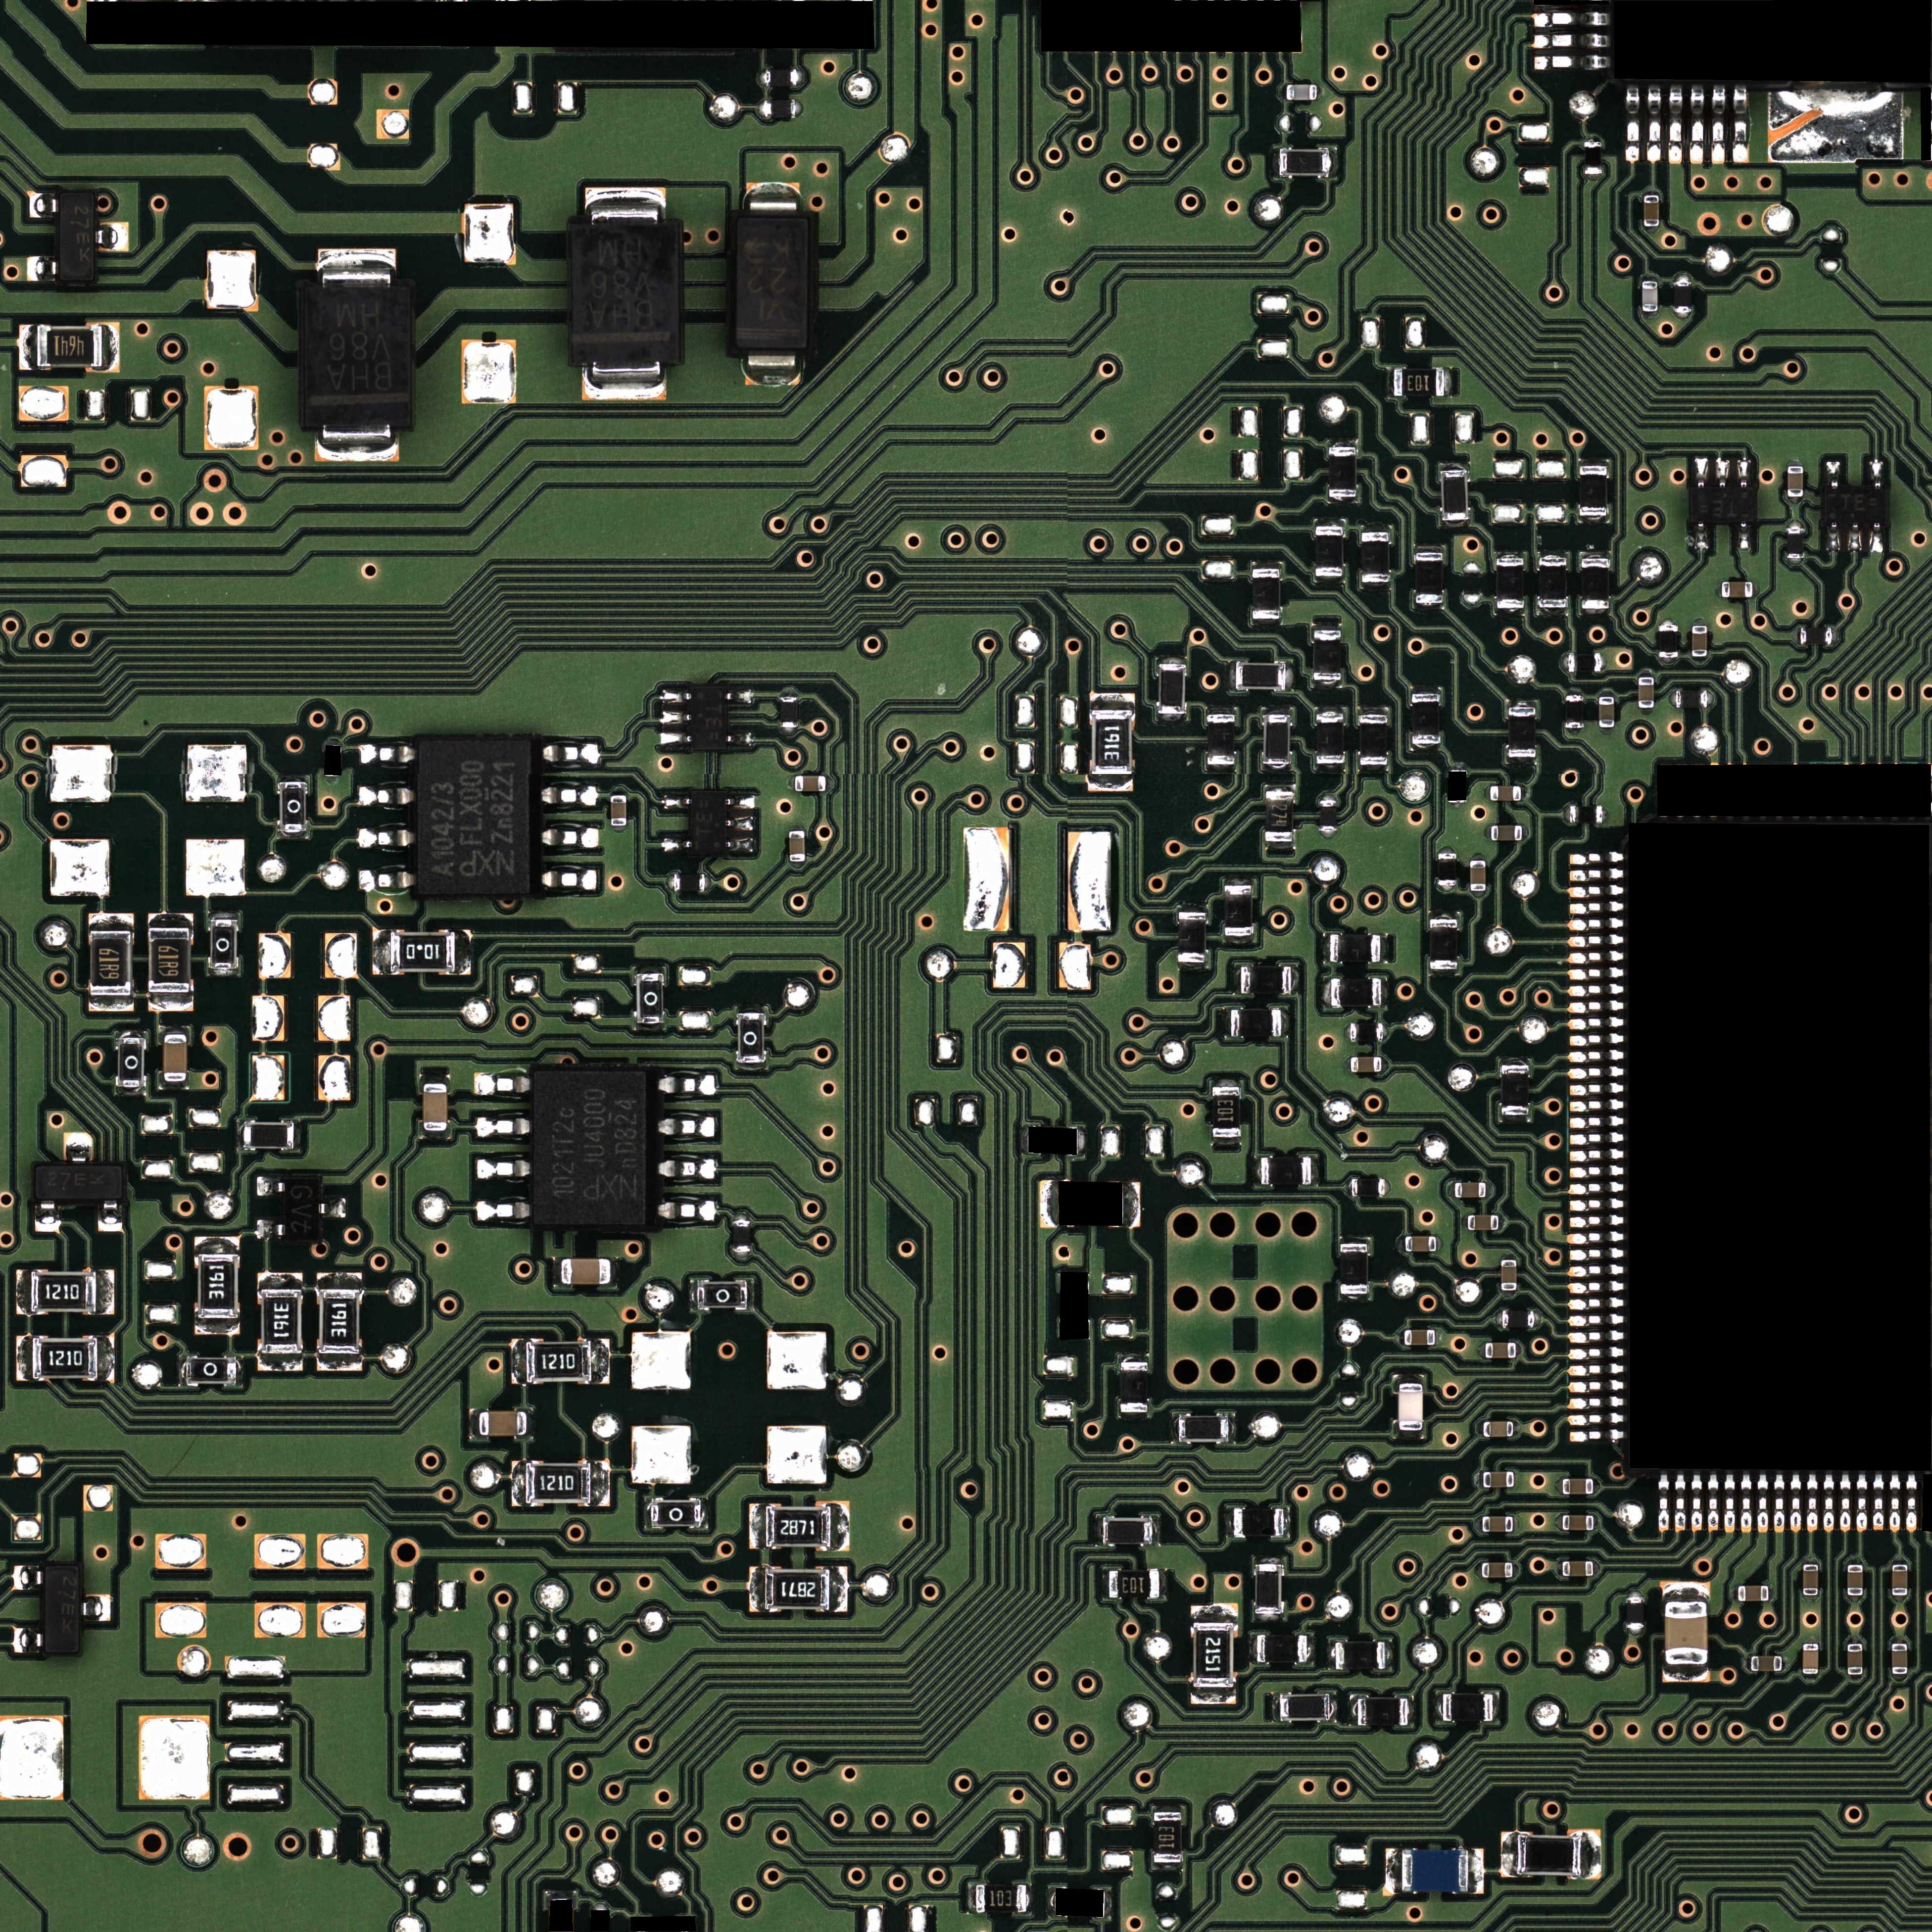Package: (418, 740, 531, 895), (533, 1071, 647, 1225), (570, 224, 680, 361), (303, 288, 412, 425), (735, 218, 808, 349), (59, 192, 95, 281), (45, 1566, 79, 1653), (36, 1166, 123, 1199), (765, 1506, 831, 1548), (1402, 1850, 1468, 1891), (31, 1271, 97, 1313), (148, 928, 191, 993), (37, 326, 102, 367), (526, 1341, 591, 1382), (1665, 1601, 1707, 1665), (764, 1569, 830, 1610), (90, 931, 131, 996), (526, 1463, 590, 1504), (32, 1338, 97, 1379), (1193, 1623, 1234, 1688), (1091, 711, 1132, 774), (390, 932, 455, 972), (261, 1290, 301, 1354), (1517, 1835, 1581, 1876), (197, 1255, 238, 1318), (320, 1290, 359, 1353), (285, 1177, 319, 1243), (1689, 488, 1755, 522), (1824, 489, 1887, 523), (691, 686, 725, 748), (692, 791, 725, 853), (1231, 1008, 1281, 1037), (1234, 1508, 1284, 1537), (1330, 934, 1380, 963), (975, 1885, 1026, 1913), (1241, 966, 1291, 994), (1225, 885, 1253, 936), (1331, 978, 1381, 1007), (1336, 1642, 1385, 1670), (1412, 694, 1440, 744), (1261, 1157, 1311, 1184), (1358, 1698, 1408, 1726), (1340, 1244, 1368, 1294), (1109, 1570, 1159, 1598), (1257, 1635, 1307, 1663), (1253, 569, 1280, 619), (1329, 447, 1356, 497), (1430, 919, 1457, 969), (1265, 792, 1293, 841), (1394, 369, 1444, 396), (1207, 715, 1235, 765), (1508, 707, 1536, 757), (1316, 714, 1344, 764), (1415, 553, 1443, 603), (1443, 1694, 1493, 1721), (1212, 1087, 1240, 1137), (1154, 1812, 1181, 1862), (1501, 1065, 1529, 1114), (1178, 913, 1206, 962), (1361, 532, 1389, 582), (1313, 630, 1341, 680), (1580, 466, 1607, 516), (1120, 1362, 1148, 1412), (1582, 559, 1608, 609), (698, 1281, 747, 1308), (636, 974, 663, 1023), (1360, 715, 1387, 765), (1497, 558, 1523, 608), (1315, 527, 1342, 576), (652, 1500, 701, 1527), (1540, 558, 1566, 607), (187, 1358, 236, 1384), (738, 1014, 764, 1063), (1280, 149, 1329, 176), (280, 782, 306, 832), (1159, 664, 1185, 714), (1442, 471, 1468, 520), (1103, 1518, 1152, 1544), (211, 919, 237, 969), (561, 1258, 610, 1284), (1236, 663, 1285, 689), (1280, 1694, 1329, 1720), (1256, 1564, 1281, 1613), (244, 1123, 293, 1148), (1264, 715, 1289, 765), (118, 1038, 144, 1087), (1179, 1416, 1228, 1441), (423, 1083, 447, 1131), (479, 1411, 526, 1436), (1399, 1383, 1423, 1430), (163, 1034, 187, 1081), (1659, 625, 1678, 658), (1350, 1023, 1383, 1042), (732, 1220, 751, 1253), (1438, 853, 1456, 885), (1584, 142, 1602, 174), (1568, 654, 1601, 672), (1319, 800, 1338, 831), (1352, 1179, 1385, 1196), (1570, 806, 1602, 823), (765, 100, 796, 118), (1502, 1310, 1534, 1328), (1566, 695, 1583, 728), (765, 69, 797, 87), (1676, 690, 1707, 708), (780, 697, 797, 728), (1674, 282, 1691, 312), (1800, 628, 1832, 645), (1627, 1597, 1643, 1629), (674, 874, 705, 891), (1787, 528, 1804, 558), (1501, 1260, 1517, 1291), (789, 831, 805, 861), (1470, 861, 1486, 891), (1787, 466, 1803, 496), (1483, 1516, 1513, 1532), (1404, 1329, 1435, 1345), (1722, 582, 1752, 597), (1644, 195, 1659, 226), (1492, 825, 1522, 841), (1491, 786, 1521, 801), (1692, 626, 1707, 657), (1599, 697, 1614, 727), (1468, 1215, 1498, 1230), (1455, 1182, 1486, 1198), (1483, 1472, 1514, 1487), (1405, 1236, 1436, 1252), (1892, 1565, 1907, 1595), (1642, 282, 1658, 311), (611, 795, 627, 825), (795, 775, 825, 791), (1639, 677, 1654, 708), (1486, 1343, 1516, 1358), (1847, 1644, 1863, 1674), (1563, 1479, 1593, 1494), (1482, 1562, 1512, 1578), (1892, 1644, 1907, 1674), (1751, 1656, 1782, 1671), (1287, 85, 1316, 100), (1803, 1644, 1818, 1674), (1563, 1515, 1594, 1530), (1847, 1565, 1863, 1595), (1351, 1057, 1381, 1072), (1803, 1565, 1818, 1595), (1563, 1561, 1593, 1576), (1484, 1421, 1513, 1437), (1739, 1586, 1768, 1601)
Solder: (1768, 91, 1904, 162), (582, 362, 666, 400), (585, 187, 666, 225), (315, 425, 398, 462), (318, 248, 397, 287), (744, 349, 801, 386), (745, 182, 800, 218), (357, 826, 417, 850), (659, 1199, 716, 1222), (542, 825, 599, 848), (359, 868, 416, 891), (659, 1073, 716, 1096), (358, 784, 416, 807), (541, 784, 598, 806), (476, 1072, 530, 1096), (543, 742, 599, 765), (542, 868, 597, 890), (359, 743, 417, 765), (476, 1115, 530, 1138), (659, 1159, 716, 1180), (1646, 87, 1662, 164), (1624, 87, 1640, 164), (476, 1199, 530, 1221), (659, 1116, 715, 1138), (477, 1158, 530, 1180), (1734, 87, 1749, 163), (1711, 87, 1727, 163), (1667, 87, 1682, 163), (1689, 87, 1704, 163), (1535, 12, 1609, 26), (1535, 56, 1610, 70), (95, 222, 129, 251), (1535, 35, 1609, 48), (63, 1132, 93, 1165), (831, 1501, 850, 1552), (1582, 1829, 1601, 1879), (1662, 1582, 1710, 1601), (1191, 1604, 1238, 1623), (1040, 1180, 1058, 1228), (591, 1460, 610, 1507), (1662, 1664, 1710, 1683), (591, 1338, 610, 1385), (372, 929, 390, 975), (148, 993, 194, 1012), (80, 1594, 111, 1621), (19, 324, 37, 371), (102, 323, 119, 372), (27, 256, 59, 282), (316, 1272, 363, 1289), (316, 1354, 363, 1372), (88, 913, 134, 930), (194, 1236, 240, 1254), (830, 1566, 848, 1612), (98, 1199, 123, 1231), (35, 1200, 59, 1232), (13, 1628, 45, 1653), (749, 1503, 766, 1549), (1089, 693, 1135, 710), (1087, 775, 1133, 792), (1190, 1688, 1236, 1705), (97, 1270, 114, 1314), (13, 1565, 45, 1590), (257, 1272, 303, 1289), (1123, 1182, 1140, 1227), (98, 1336, 114, 1382), (194, 1319, 240, 1335), (258, 1355, 303, 1371), (1385, 1848, 1401, 1895), (29, 193, 59, 218), (455, 929, 471, 975), (1501, 1832, 1517, 1878), (1568, 1314, 1623, 1327), (749, 1566, 765, 1612), (1569, 852, 1624, 865), (1569, 967, 1624, 980), (16, 1336, 32, 1381), (89, 996, 134, 1012), (1569, 951, 1624, 964), (1569, 1066, 1624, 1079), (1569, 1297, 1624, 1309), (1469, 1848, 1484, 1894), (1568, 1412, 1623, 1425), (1570, 1182, 1625, 1195), (1569, 1282, 1624, 1294), (16, 1269, 31, 1315), (1569, 1330, 1623, 1343), (1570, 1083, 1624, 1095), (1569, 1050, 1624, 1062), (512, 1339, 526, 1384), (1568, 1347, 1623, 1359), (1569, 1033, 1624, 1045), (1570, 1116, 1625, 1128), (1569, 1380, 1623, 1392), (1569, 1364, 1623, 1376), (1570, 902, 1624, 914), (1569, 885, 1624, 897), (1569, 1000, 1624, 1012), (1570, 1017, 1624, 1029), (1570, 1132, 1625, 1144), (1569, 1248, 1624, 1260), (1569, 1199, 1624, 1210), (1567, 1232, 1624, 1244), (1570, 869, 1624, 881), (1570, 984, 1624, 996), (1570, 1099, 1624, 1111), (148, 913, 193, 927), (1568, 918, 1624, 930), (1570, 1430, 1624, 1442), (511, 1461, 525, 1506), (1568, 934, 1624, 946), (1569, 1166, 1625, 1177), (1568, 1265, 1624, 1277), (1570, 1149, 1625, 1160), (1569, 1215, 1624, 1227), (1659, 1475, 1670, 1532), (1724, 1475, 1735, 1532), (1807, 1475, 1818, 1533), (1691, 1474, 1702, 1531), (1708, 1475, 1719, 1532), (1757, 1474, 1768, 1531), (1774, 1475, 1785, 1532), (1873, 1475, 1884, 1531), (1569, 1398, 1624, 1408), (1824, 1474, 1834, 1532), (1791, 1475, 1801, 1532), (1840, 1475, 1851, 1532), (1856, 1475, 1867, 1532), (1889, 1474, 1900, 1532), (1906, 1475, 1916, 1532), (1676, 1475, 1686, 1532), (1741, 1475, 1751, 1532), (256, 1219, 285, 1239), (257, 1177, 285, 1196), (319, 1198, 345, 1217), (1869, 459, 1884, 488), (1693, 522, 1709, 551), (1693, 457, 1708, 488), (1826, 461, 1842, 489), (1715, 458, 1730, 487), (662, 838, 692, 852), (1847, 524, 1862, 552), (726, 794, 755, 809), (1737, 459, 1752, 487), (1869, 523, 1884, 552), (726, 732, 754, 747), (660, 690, 691, 703), (725, 817, 754, 831), (1737, 522, 1751, 550), (662, 795, 692, 809), (1826, 524, 1840, 551), (661, 711, 691, 724), (725, 690, 754, 704), (661, 732, 692, 744), (726, 838, 753, 852), (470, 1409, 480, 1440), (1252, 1555, 1286, 1564), (966, 1883, 976, 1915), (1444, 367, 1453, 397), (1393, 1430, 1425, 1439), (734, 1063, 768, 1071), (1225, 1505, 1234, 1539), (419, 1130, 451, 1139), (1322, 977, 1331, 1009), (1438, 520, 1471, 528), (1350, 1694, 1358, 1727), (553, 1257, 562, 1288), (1210, 1078, 1241, 1087), (114, 1087, 146, 1095), (1253, 1613, 1285, 1622), (206, 969, 241, 977), (1577, 516, 1611, 524), (420, 1074, 450, 1083), (1281, 1008, 1290, 1038), (277, 832, 308, 840), (277, 773, 309, 782), (209, 911, 240, 919), (159, 1026, 191, 1034), (689, 1279, 698, 1310), (735, 1005, 767, 1013), (1330, 147, 1339, 178), (1250, 1633, 1257, 1665), (1177, 904, 1208, 913), (1360, 524, 1391, 532), (1233, 964, 1241, 995), (1394, 1374, 1425, 1383), (1211, 1137, 1242, 1146), (158, 1081, 190, 1089), (1329, 1691, 1337, 1724), (1047, 1886, 1055, 1918), (1157, 714, 1187, 722), (1429, 911, 1459, 919), (1314, 518, 1345, 527), (1077, 1126, 1086, 1157), (1152, 1515, 1160, 1546), (633, 966, 665, 974), (747, 1279, 755, 1310), (1439, 463, 1470, 471), (1251, 561, 1283, 569), (1339, 1236, 1371, 1244), (1105, 1888, 1112, 1920), (1499, 1114, 1531, 1122), (526, 1409, 534, 1439), (1500, 1057, 1530, 1065), (1271, 147, 1279, 178), (1414, 545, 1445, 553), (1264, 841, 1296, 849), (1228, 1413, 1236, 1444), (1311, 1155, 1319, 1186), (1328, 1639, 1336, 1670), (1506, 699, 1538, 707), (1151, 1862, 1182, 1870), (1327, 439, 1358, 447), (1206, 765, 1236, 773), (1177, 962, 1207, 970), (1223, 1008, 1231, 1038), (1026, 1884, 1034, 1914), (1537, 551, 1570, 558), (610, 1257, 618, 1288), (1286, 661, 1294, 691), (1206, 707, 1236, 715), (1323, 933, 1331, 964), (1291, 965, 1299, 995), (1119, 1354, 1149, 1362), (1506, 757, 1537, 765), (1254, 1156, 1261, 1188), (1435, 1691, 1443, 1724), (1307, 1634, 1314, 1666), (1579, 552, 1611, 559), (1536, 607, 1568, 615), (1495, 551, 1527, 559), (1493, 1691, 1500, 1723), (116, 1030, 147, 1038), (644, 1497, 651, 1529), (1228, 661, 1236, 691), (1358, 707, 1388, 715), (1262, 707, 1292, 715), (1411, 743, 1441, 751), (1102, 1567, 1109, 1599), (634, 1023, 665, 1031), (701, 1497, 708, 1529), (1223, 936, 1255, 943), (1339, 1294, 1370, 1301), (1095, 1515, 1103, 1546), (1152, 1804, 1183, 1812), (1272, 1692, 1280, 1723), (1158, 656, 1187, 664), (1262, 764, 1293, 771), (1171, 1413, 1179, 1444), (1578, 459, 1609, 466), (179, 1355, 186, 1388), (1314, 707, 1345, 714), (1414, 603, 1444, 610), (1380, 933, 1387, 964), (1429, 969, 1459, 976), (1360, 582, 1391, 589), (1020, 1124, 1028, 1155), (1312, 680, 1342, 687), (1315, 764, 1345, 771), (1411, 687, 1441, 694), (1159, 1568, 1166, 1600), (293, 1120, 300, 1152), (1327, 497, 1358, 504), (1381, 977, 1388, 1009), (1385, 1640, 1392, 1671), (1311, 623, 1342, 630), (1314, 576, 1345, 583), (1495, 608, 1525, 615), (1580, 609, 1610, 616), (1251, 619, 1281, 626), (1223, 878, 1253, 885), (1284, 1507, 1290, 1539), (1119, 1412, 1149, 1419), (1407, 1695, 1414, 1727), (238, 1120, 244, 1152), (1265, 784, 1294, 791), (236, 1357, 242, 1387), (1387, 368, 1394, 398), (548, 1891, 575, 1898), (1359, 765, 1388, 772), (1319, 831, 1337, 839), (666, 874, 675, 892), (795, 99, 804, 117), (780, 688, 798, 697), (1802, 1636, 1819, 1644), (591, 1902, 610, 1910), (796, 69, 805, 86), (1787, 520, 1803, 528), (733, 1212, 750, 1220), (1560, 654, 1568, 672), (1691, 618, 1708, 626), (1638, 670, 1654, 677), (1554, 1478, 1563, 1494), (1803, 1674, 1819, 1682), (1475, 1516, 1483, 1532), (757, 70, 765, 86), (1448, 802, 1466, 810), (1659, 618, 1677, 625), (1585, 174, 1603, 181), (1563, 805, 1570, 824), (1675, 312, 1691, 320), (1470, 853, 1486, 861), (1600, 654, 1608, 671), (1731, 1586, 1739, 1602), (1343, 1057, 1352, 1072), (1436, 1236, 1444, 1252), (780, 728, 798, 735), (1319, 793, 1337, 800), (1439, 846, 1456, 853), (1674, 275, 1691, 282), (1496, 1310, 1503, 1328), (1627, 1590, 1644, 1597), (757, 101, 765, 117), (1398, 1236, 1406, 1252), (1500, 1252, 1516, 1260), (1847, 1674, 1863, 1682), (1554, 1561, 1562, 1577), (1707, 690, 1715, 707), (1521, 786, 1529, 801), (1383, 1023, 1390, 1041), (1381, 1057, 1389, 1072), (1435, 1330, 1443, 1345), (1478, 1343, 1486, 1358), (1555, 1515, 1563, 1530), (1593, 1561, 1601, 1576), (1781, 1655, 1789, 1671), (325, 738, 341, 745), (611, 787, 627, 795), (1448, 1182, 1455, 1199), (1787, 459, 1803, 467), (1470, 891, 1487, 898), (1566, 727, 1583, 735), (1638, 708, 1654, 715), (1598, 689, 1615, 697), (1566, 688, 1582, 696), (1534, 1311, 1541, 1327), (1802, 1557, 1819, 1564), (1847, 1595, 1863, 1603), (1847, 1636, 1863, 1643), (1891, 1636, 1907, 1643), (1802, 1595, 1819, 1602), (1514, 1471, 1521, 1488), (1752, 582, 1760, 597), (733, 1252, 750, 1259), (1345, 1179, 1352, 1196), (1832, 628, 1838, 645), (1793, 628, 1800, 645), (1627, 1629, 1644, 1636), (789, 824, 805, 831), (1787, 497, 1803, 504), (1484, 825, 1492, 840), (1598, 727, 1614, 734), (1594, 1479, 1601, 1494), (1513, 1516, 1520, 1532), (1892, 1674, 1908, 1682), (1892, 1595, 1908, 1603), (1474, 1562, 1482, 1578), (324, 776, 341, 783), (788, 775, 795, 792), (1343, 1024, 1350, 1041), (1522, 826, 1530, 840), (1438, 885, 1456, 892), (1449, 764, 1467, 770), (1659, 658, 1677, 665), (1715, 582, 1722, 597), (1501, 1290, 1516, 1298), (1476, 1421, 1484, 1437), (1768, 1586, 1775, 1601), (1486, 1183, 1494, 1198), (1513, 1422, 1521, 1437), (825, 775, 832, 792), (1385, 1179, 1392, 1196), (1669, 691, 1676, 707), (1477, 1471, 1484, 1488), (705, 874, 711, 891), (1585, 135, 1602, 142), (1515, 1343, 1523, 1358), (1512, 1563, 1520, 1578), (1847, 1558, 1863, 1565), (1745, 1655, 1752, 1671), (1280, 85, 1287, 100), (1593, 1515, 1600, 1531), (1892, 1558, 1907, 1565), (1787, 558, 1804, 565), (611, 826, 626, 833), (1498, 1215, 1505, 1230), (1317, 84, 1323, 100), (1602, 806, 1608, 824), (1461, 1215, 1468, 1230), (790, 862, 805, 868), (1691, 656, 1708, 662), (1484, 786, 1491, 801), (1643, 190, 1659, 195), (1398, 1331, 1404, 1345), (1642, 276, 1658, 281), (1642, 311, 1658, 317), (1643, 227, 1660, 232)
